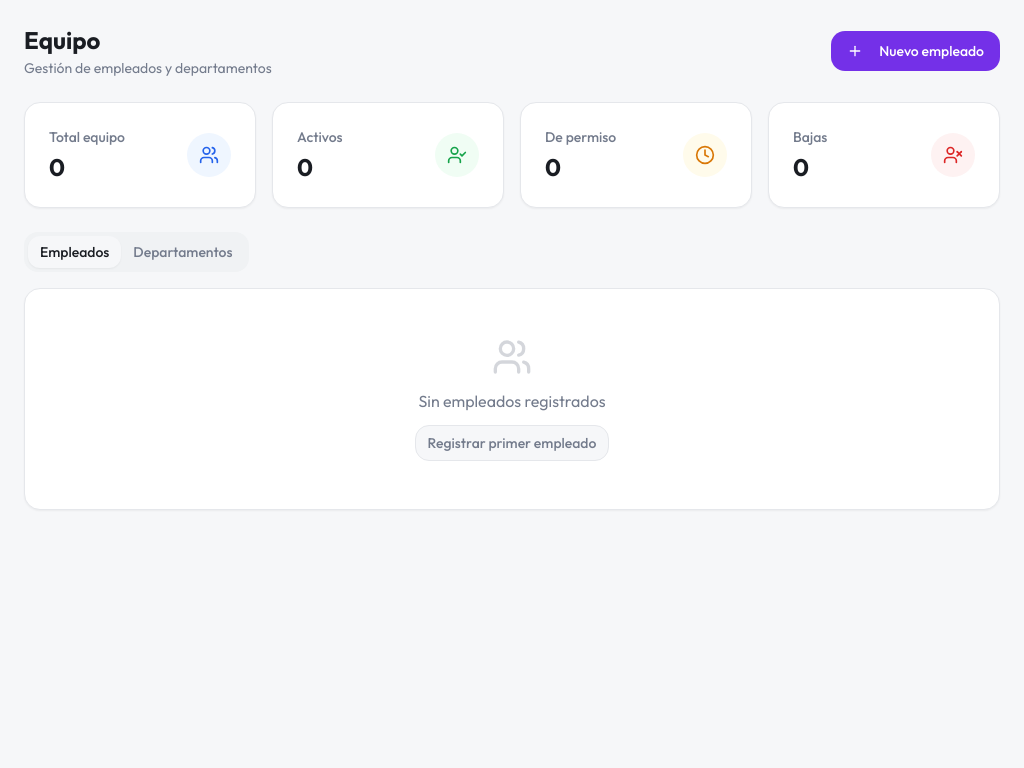
Test: HR, in Spanish › explains an empty team and offers to register the first employee
Check: the text "Sin empleados registrados" is shown, box [418, 391, 606, 411]
Step 1. Click the button "Registrar primer empleado" → (512, 443), box [415, 425, 609, 461]
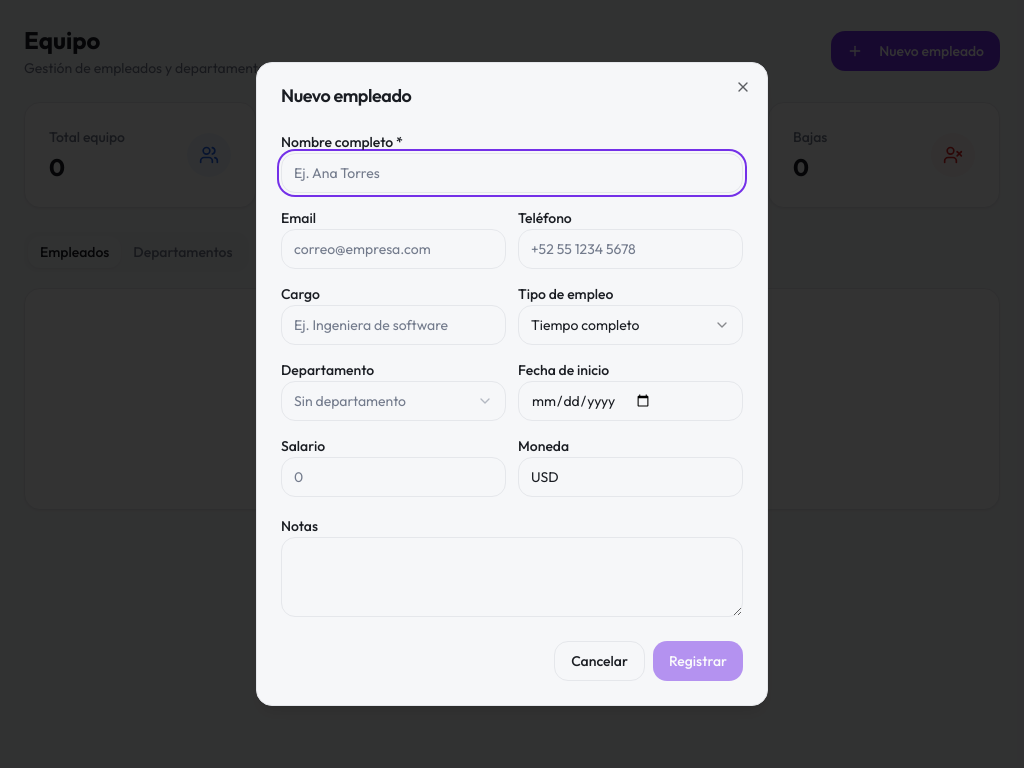
Check: the heading "Nuevo empleado" is shown, box [281, 84, 411, 107]
